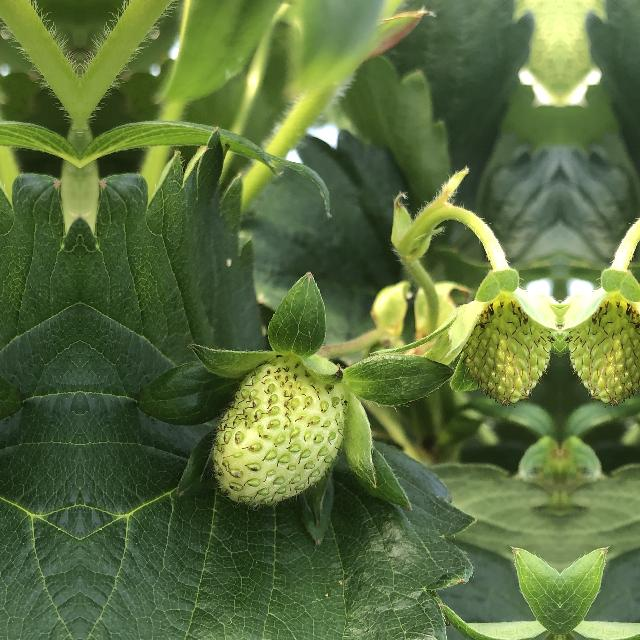Health_25: (210, 352, 352, 510)
